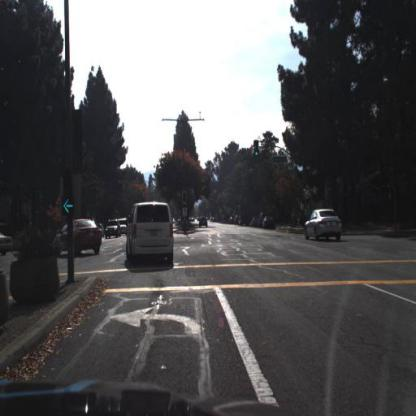car: (126, 199, 177, 269), (53, 215, 104, 259), (54, 213, 103, 255), (305, 205, 347, 248), (199, 210, 212, 231), (198, 211, 211, 229)
trafficLight-Green: (253, 137, 262, 158), (255, 142, 260, 159), (303, 182, 308, 196)
trafficLight-GreenLeft: (62, 193, 76, 216), (184, 191, 189, 209)
